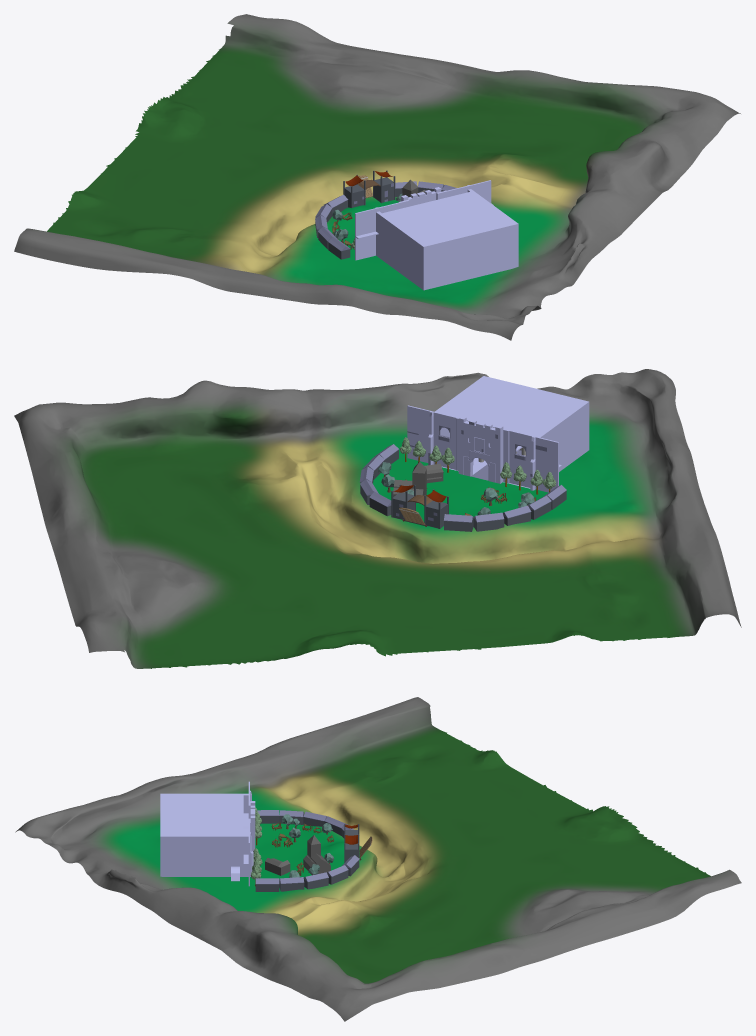
Rendered from CastleLevel.fbx.
3 views of the same model, one above another, from view 1: azimuth 30°, elevation 25°; view 2: azimuth 150°, elevation 25°; view 3: azimuth 270°, elevation 25° (orthographic). The views are drawn at different scales.
Visible parts, largest first — view 1: polySurface246, polySurface204; view 2: polySurface246, polySurface204, polySurface141, polySurface196, polySurface140, polySurface206, polySurface210; view 3: polySurface246, polySurface204, polySurface196.
Boxes of the visible parts, <box> form: polySurface246: <box>14,14,740,340</box>; polySurface204: <box>355,180,518,290</box>; polySurface246: <box>14,369,741,668</box>; polySurface204: <box>407,376,589,492</box>; polySurface141: <box>424,489,448,528</box>; polySurface196: <box>393,462,426,502</box>; polySurface140: <box>391,484,415,519</box>; polySurface206: <box>473,512,504,531</box>; polySurface210: <box>443,514,473,531</box>; polySurface246: <box>15,697,741,1021</box>; polySurface204: <box>160,781,255,886</box>; polySurface196: <box>303,835,330,875</box>.
Size of the model in its own units: 7267 by 786 by 7143.
27 materials, 1 textured.
